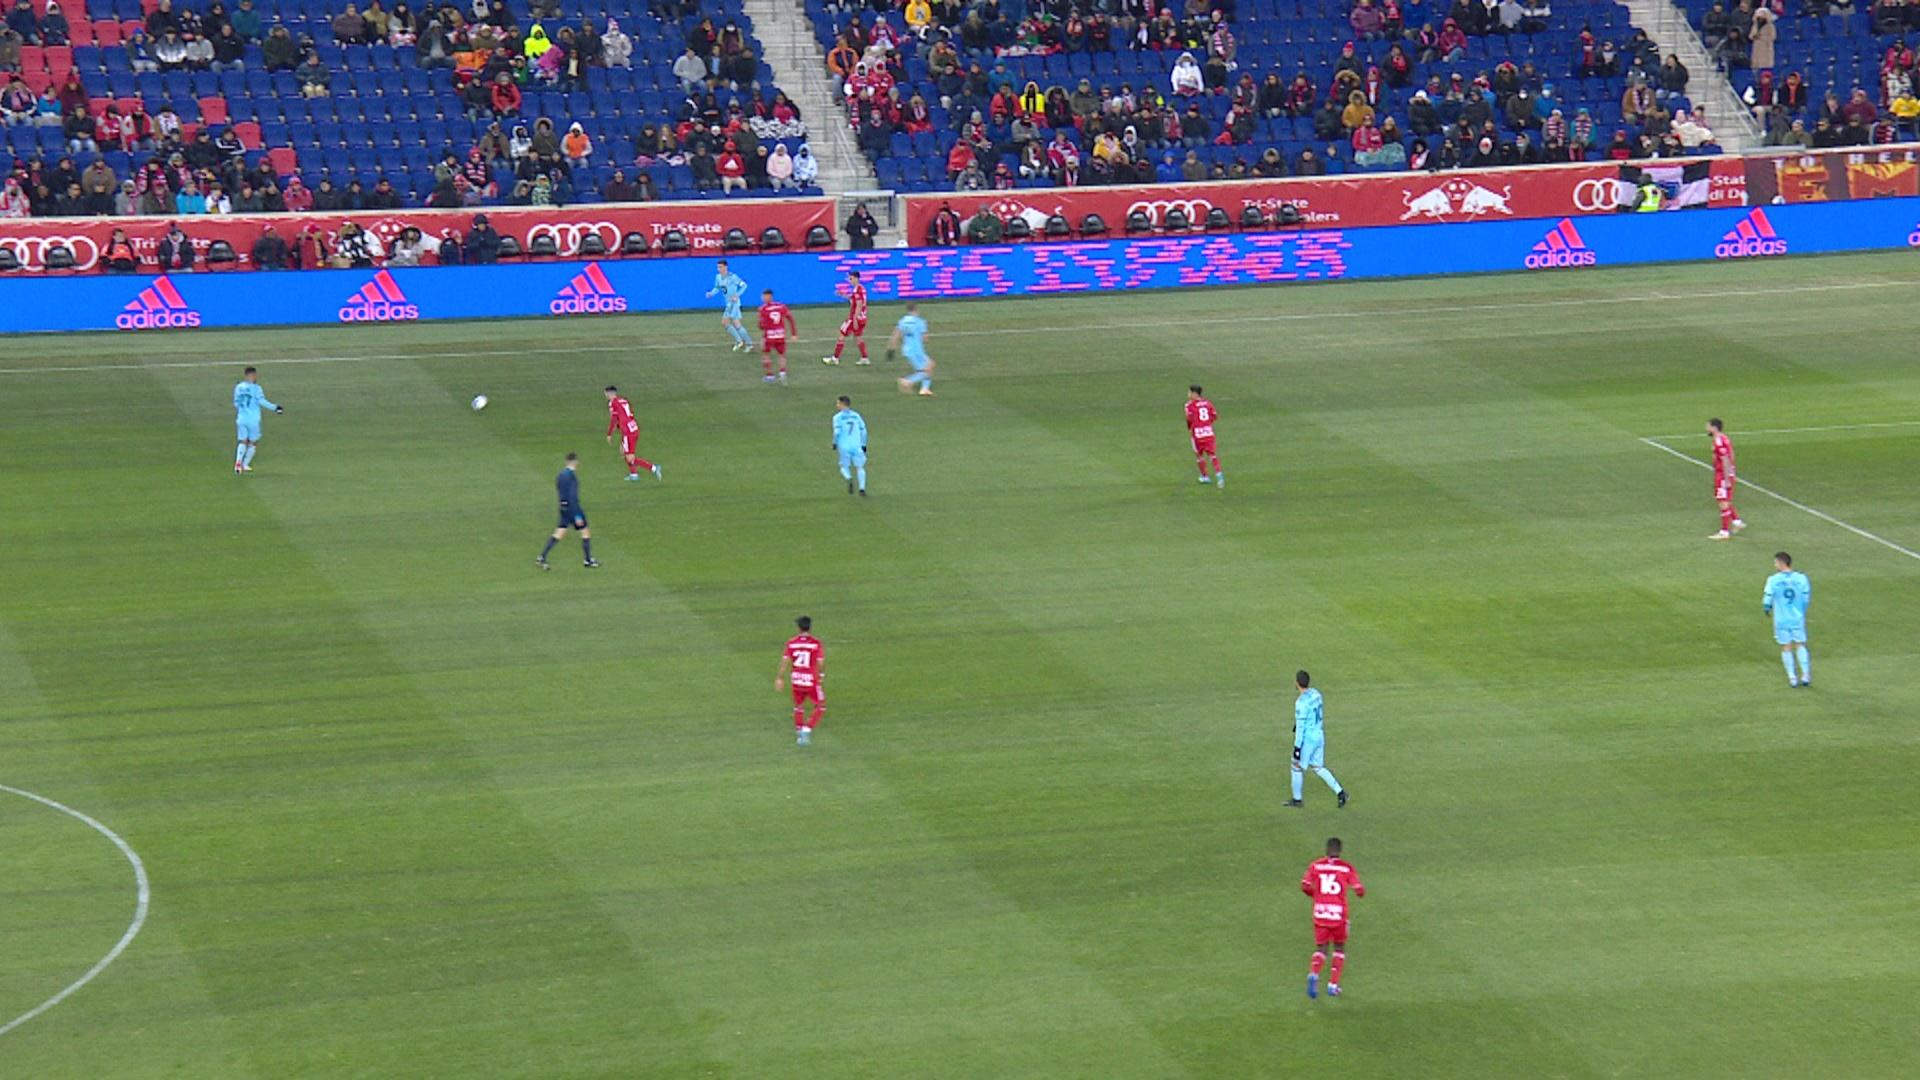football: (471, 393, 489, 412)
